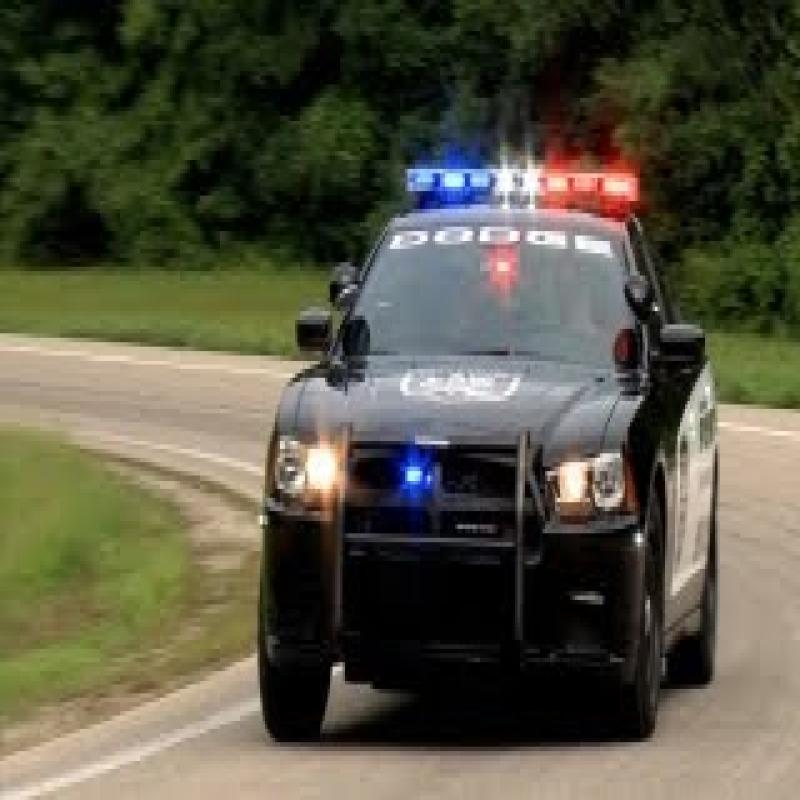AmbulanceSiren: (395, 139, 637, 219)
